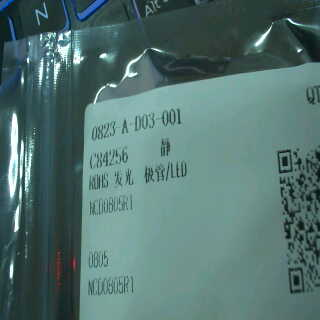LED: (103, 157, 192, 191)
